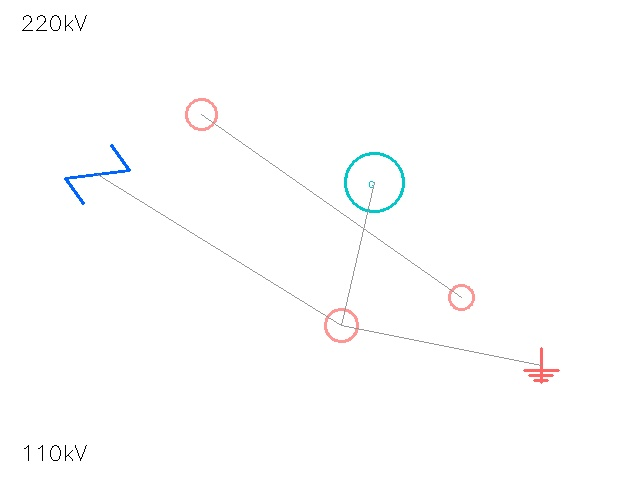circuit_breaker: (66, 143, 128, 205)
fuse: (308, 292, 374, 358), (436, 272, 486, 322)
generator: (345, 153, 403, 211)
ground: (524, 348, 558, 382)
surge_arrester: (170, 83, 232, 145)
